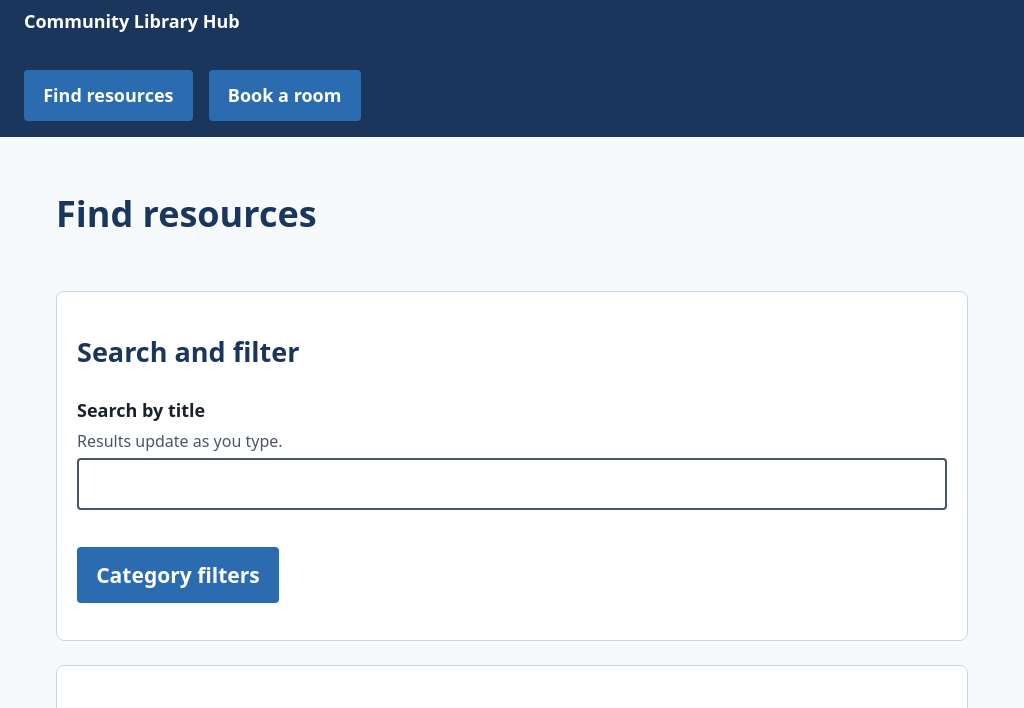
it: search updates live count
Type "archive" into the search field labelled "Search by title" at (512, 484), box top-left (77, 458), bottom-right (947, 510)
(page scrolled)
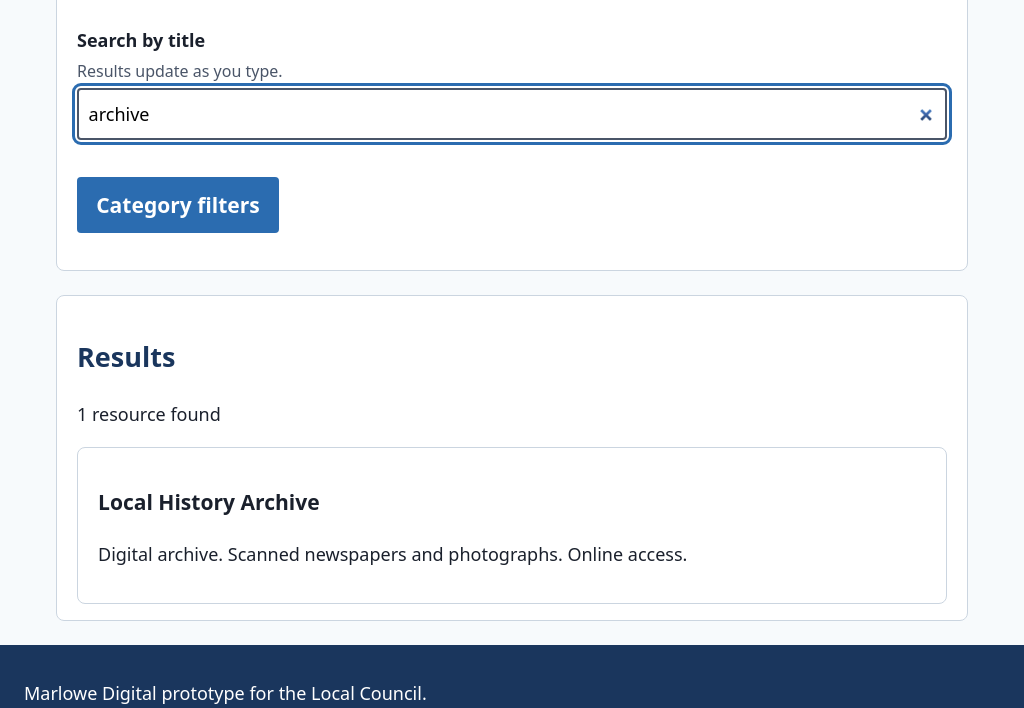
Expected: the text "1 resource found" is shown, top-left (77, 402), bottom-right (221, 426)
